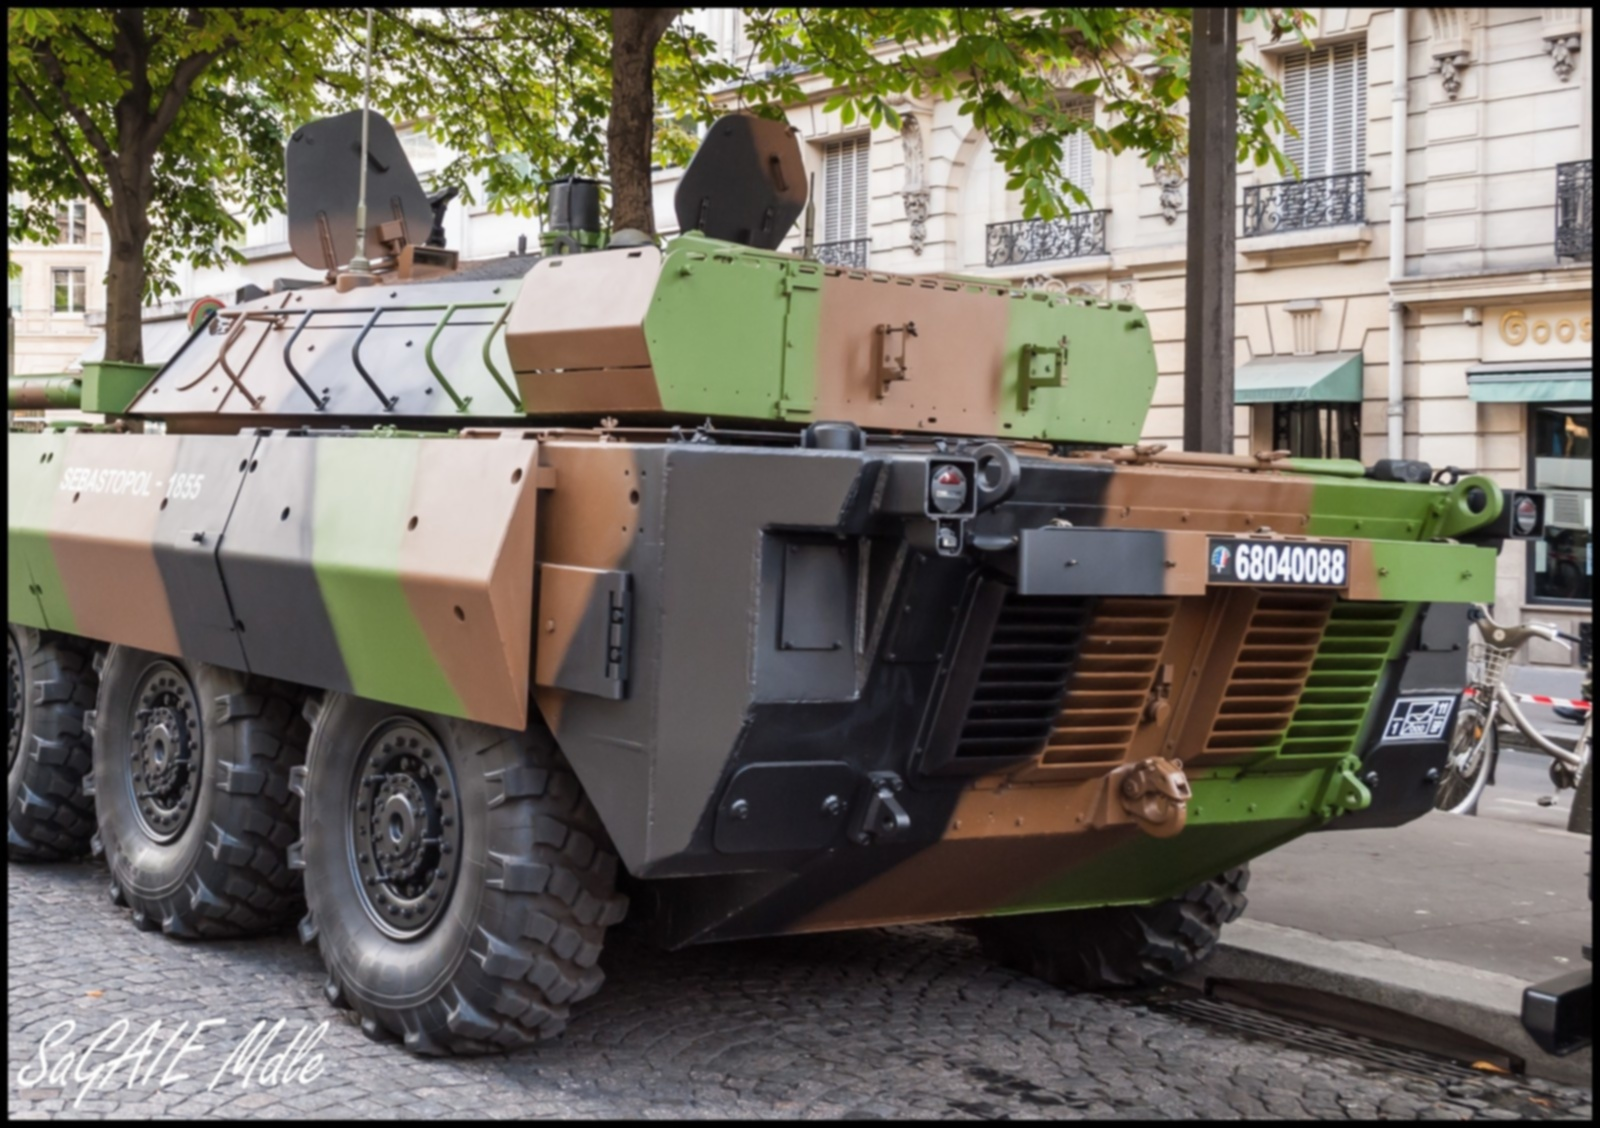license_plate: (1230, 537, 1352, 592)
